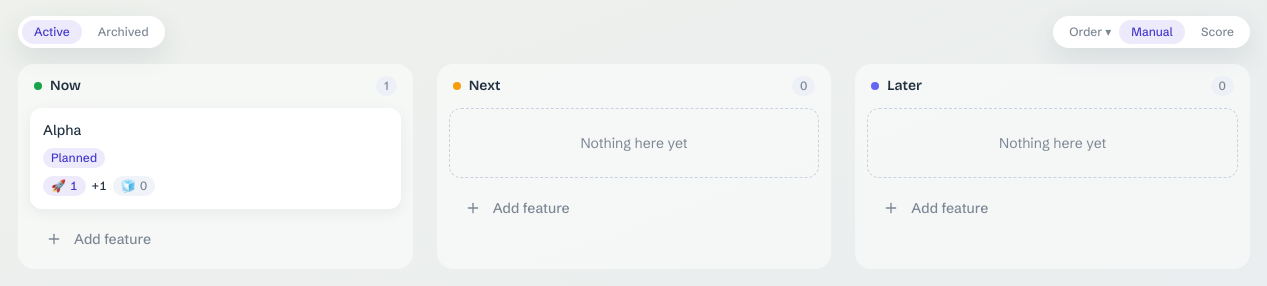
VoteWidget on board cards › clicking the other control flips the vote
Click the button named "cool" at (134, 186), box left=113, top=176, right=155, bottom=196
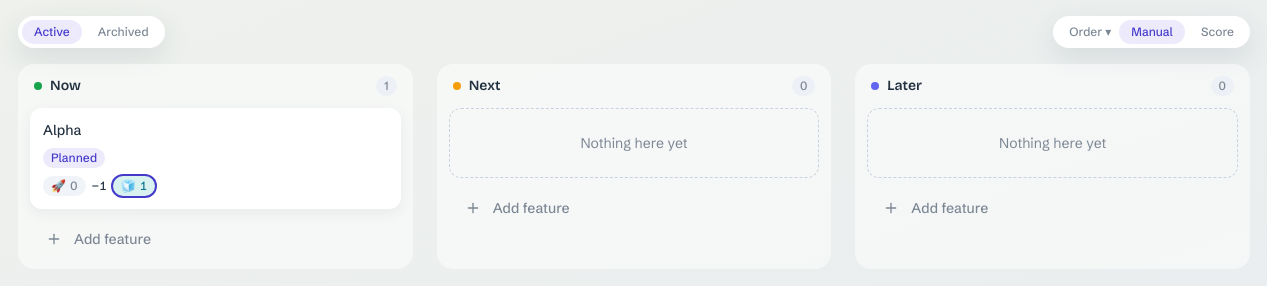
Check: the button named "boost" shows "0", box left=43, top=176, right=86, bottom=196
Check: the button named "cool" shows "1", box left=113, top=176, right=155, bottom=196
Check: the text with test id "vote-score" reads "−1", box left=92, top=178, right=107, bottom=193
